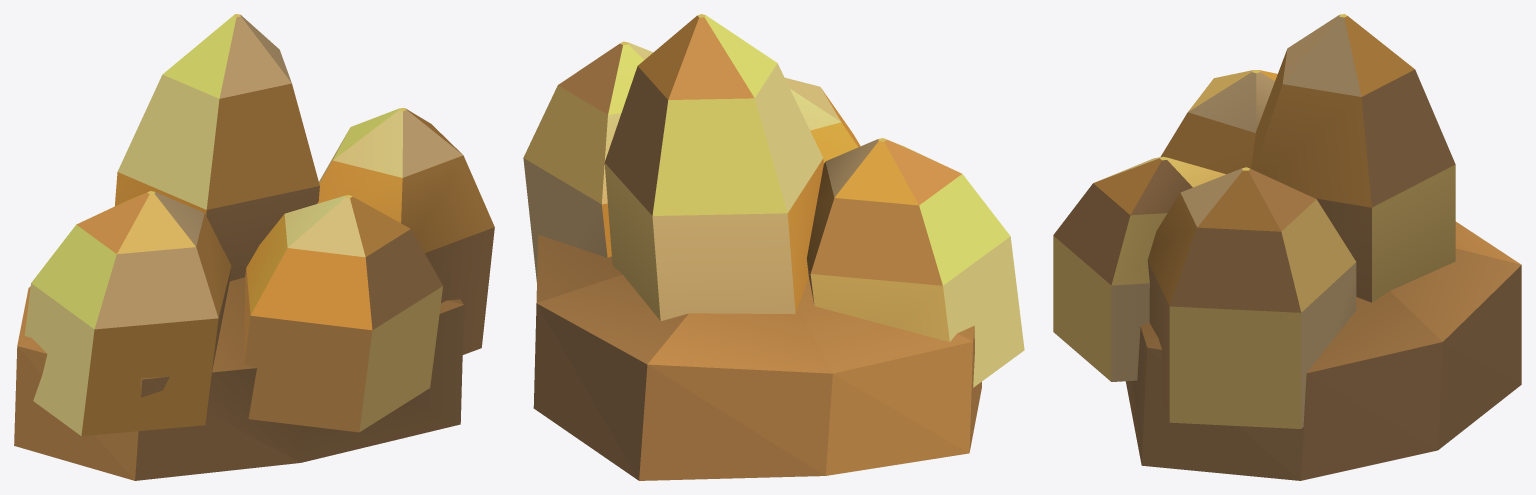
The model's file is find_amber.glb.
3 views of the same model, side by side, from view 1: azimuth 30°, elevation 25°; view 2: azimuth 150°, elevation 25°; view 3: azimuth 270°, elevation 25° (orthographic). The views are drawn at different scales.
Visible parts, largest first — view 1: find_amber; view 2: find_amber; view 3: find_amber.
Part boxes in pixels (x1=…): find_amber: x1=14, y1=14, x2=494, y2=480; find_amber: x1=523, y1=14, x2=1024, y2=480; find_amber: x1=1053, y1=14, x2=1521, y2=480.
Size of the model in its own units: 0.4996 by 0.47 by 0.4578.
